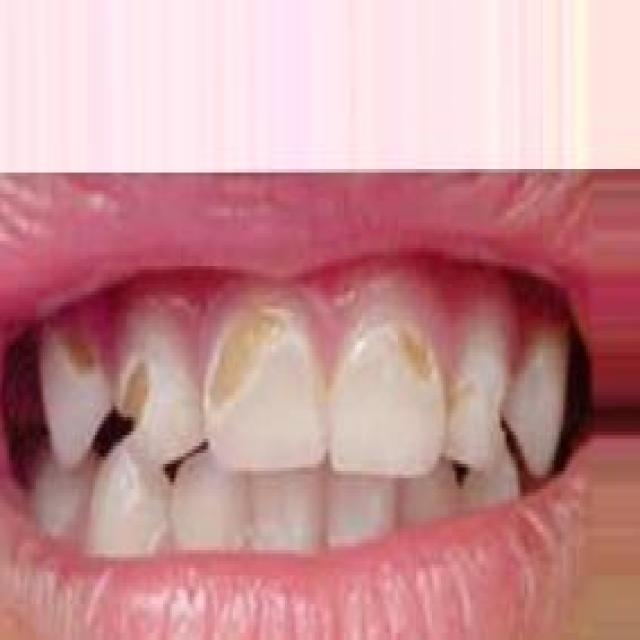caries: (207, 293, 293, 444), (366, 299, 443, 410), (454, 336, 512, 471), (52, 315, 112, 437), (104, 346, 175, 438)
